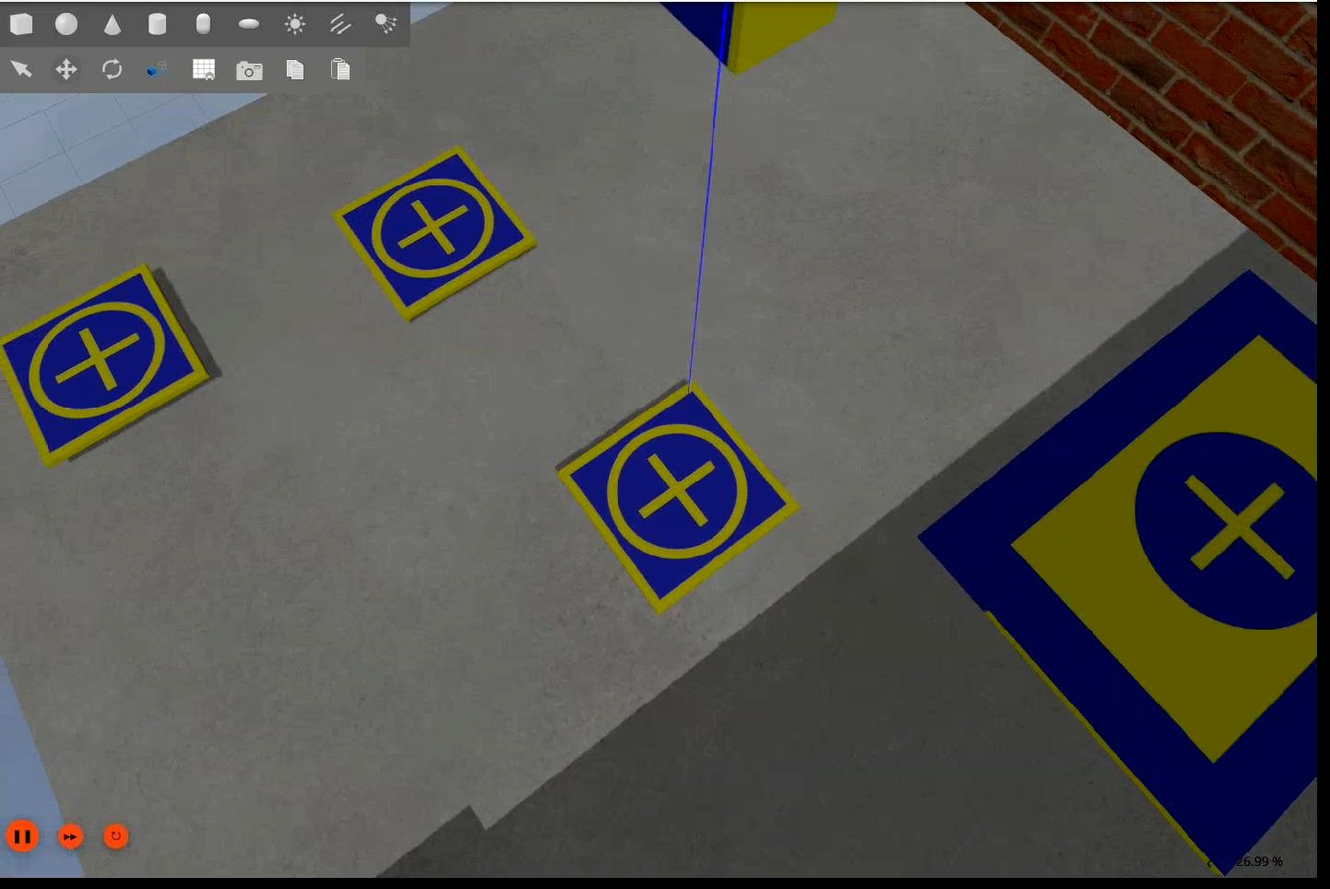large_base: (920, 267, 1319, 880)
small_base: (557, 382, 802, 617), (1, 266, 211, 464), (336, 148, 540, 321)
